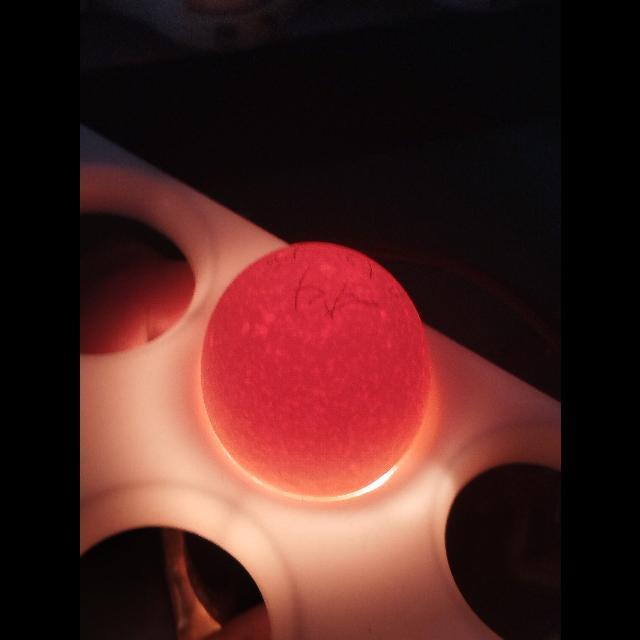Infertile: (190, 230, 432, 484)
